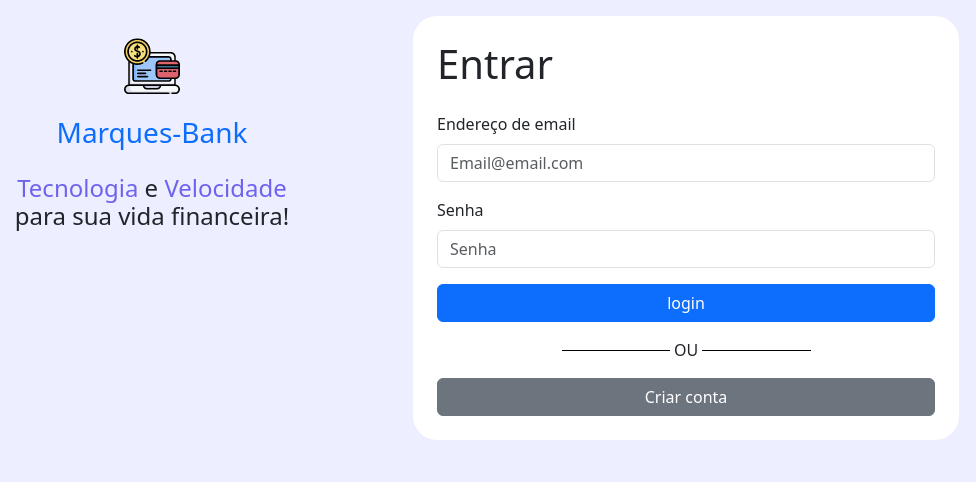
Test: Login screen › Not should be able to login without valid email
Type "password" into the password field labelled "Senha".
click(686, 249); type("password")  # box [437,230,935,268]
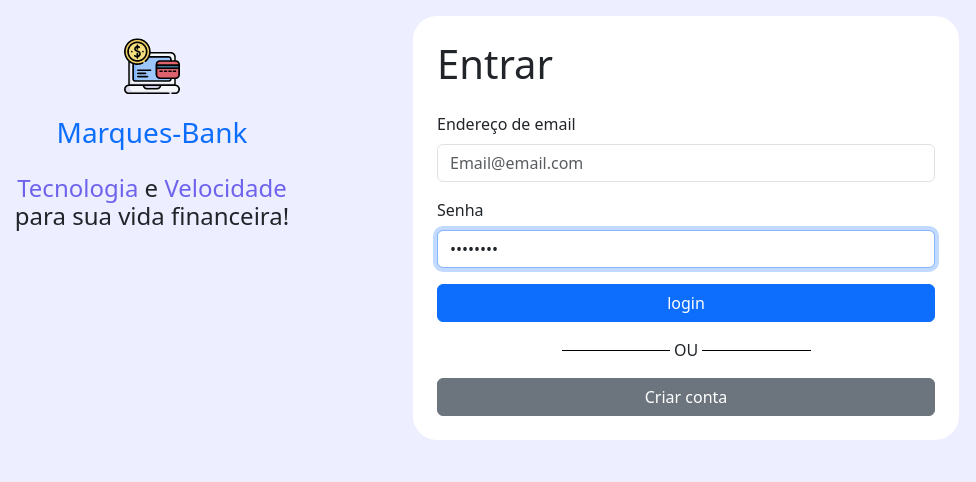
Click the button "login".
click(686, 303)  # box [437,284,935,322]
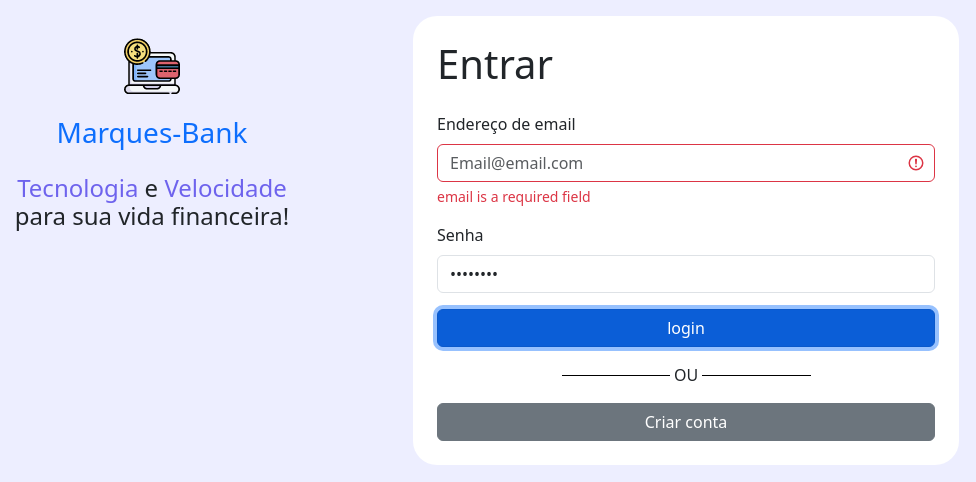
Expected: the text "email is a required field" is shown, [437,187,591,206]
